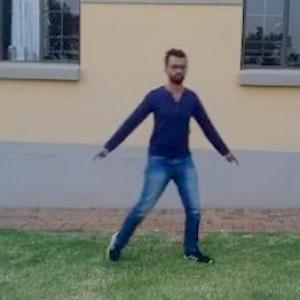land: (99, 55, 238, 248)
